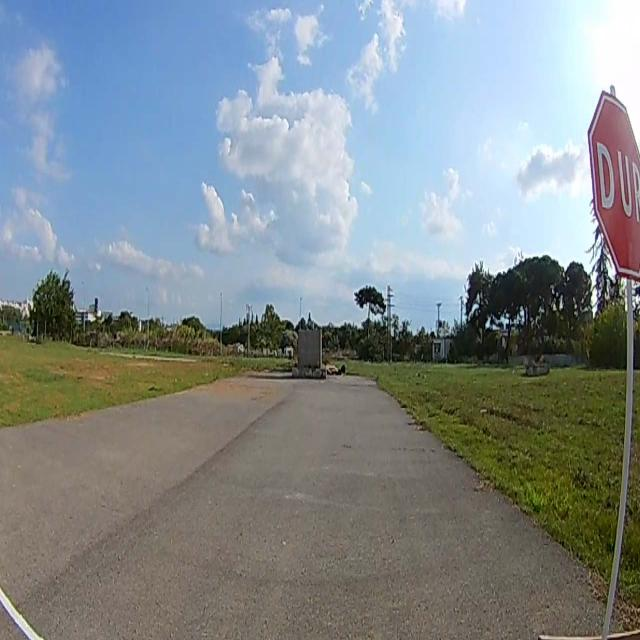dur: (588, 91, 640, 278)
